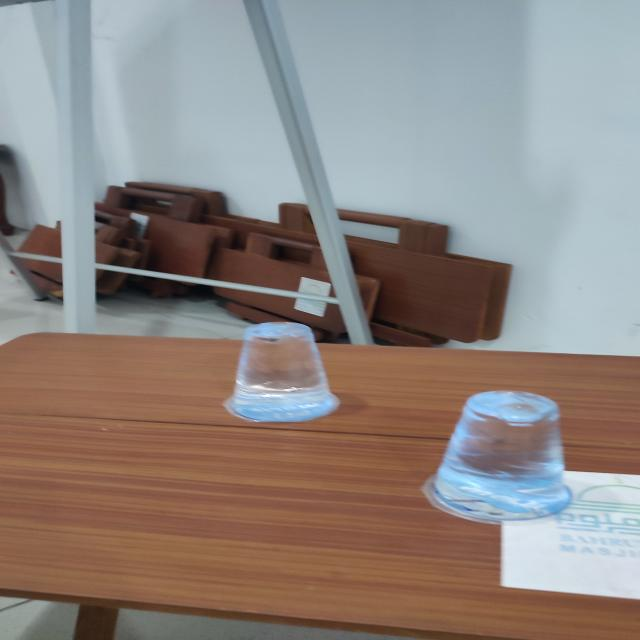air gelas: (404, 384, 592, 519), (212, 318, 362, 419)
